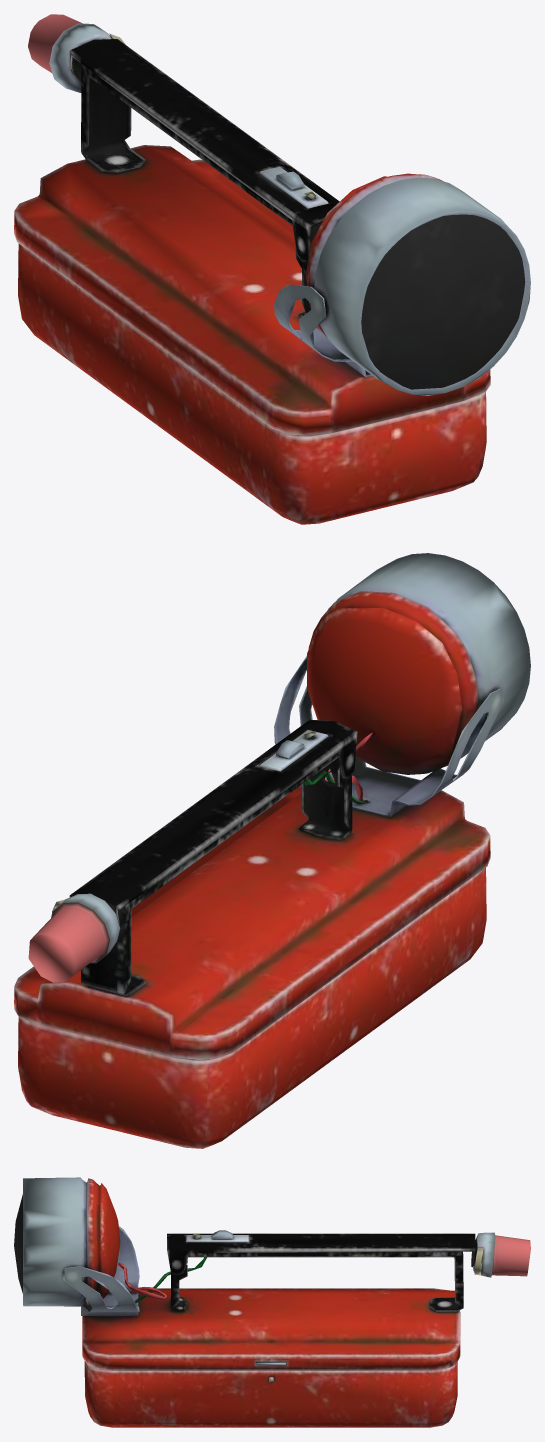
File: vintage_flashlight.glb
The picture shows the model from 3 angles, top to bottom: view 1: azimuth 30°, elevation 25°; view 2: azimuth 150°, elevation 25°; view 3: azimuth 270°, elevation 25°; orthographic projection. The views are drawn at different scales.
Parts seen in each view (by area): view 1: vintage_flashlight; view 2: vintage_flashlight; view 3: vintage_flashlight.
Part boxes in pixels (x1=…): vintage_flashlight: x1=14, y1=14, x2=530, y2=524; vintage_flashlight: x1=14, y1=553, x2=530, y2=1148; vintage_flashlight: x1=14, y1=1177, x2=530, y2=1427.
Size of the model in its own units: 0.0956 by 0.1441 by 0.3053.
2 materials, 2 textured.
